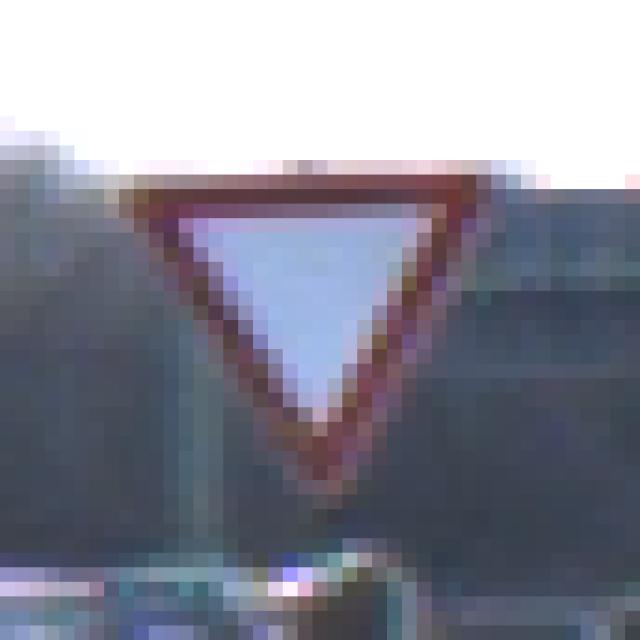Give Way: (76, 89, 567, 569)
